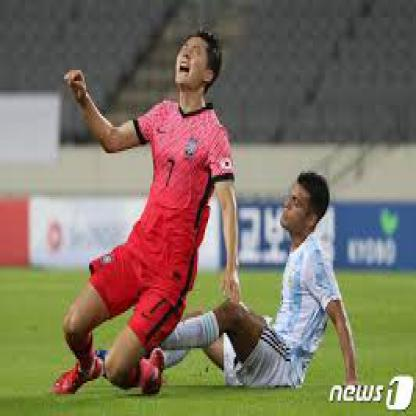Fall_Down: (49, 29, 244, 398)
